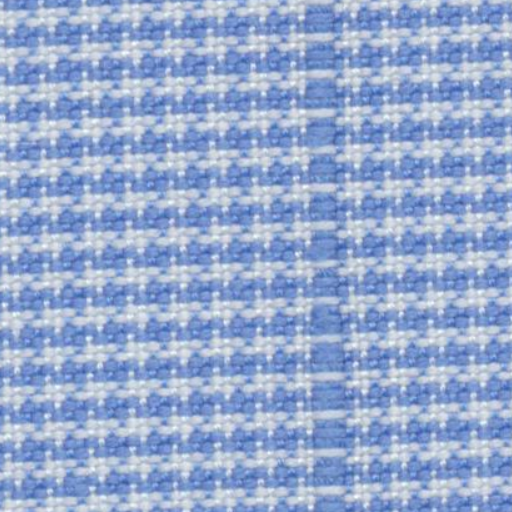TuoSha: (264, 14, 392, 494)
